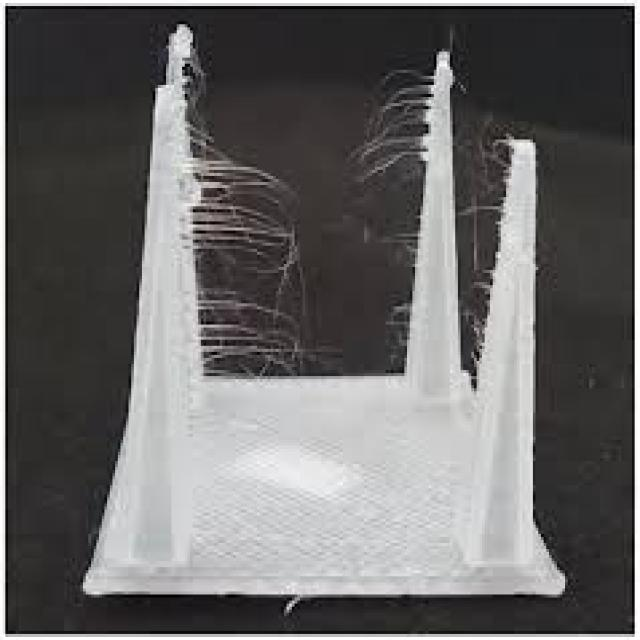Stringing: (181, 134, 312, 444), (342, 57, 423, 178), (459, 116, 508, 222)
